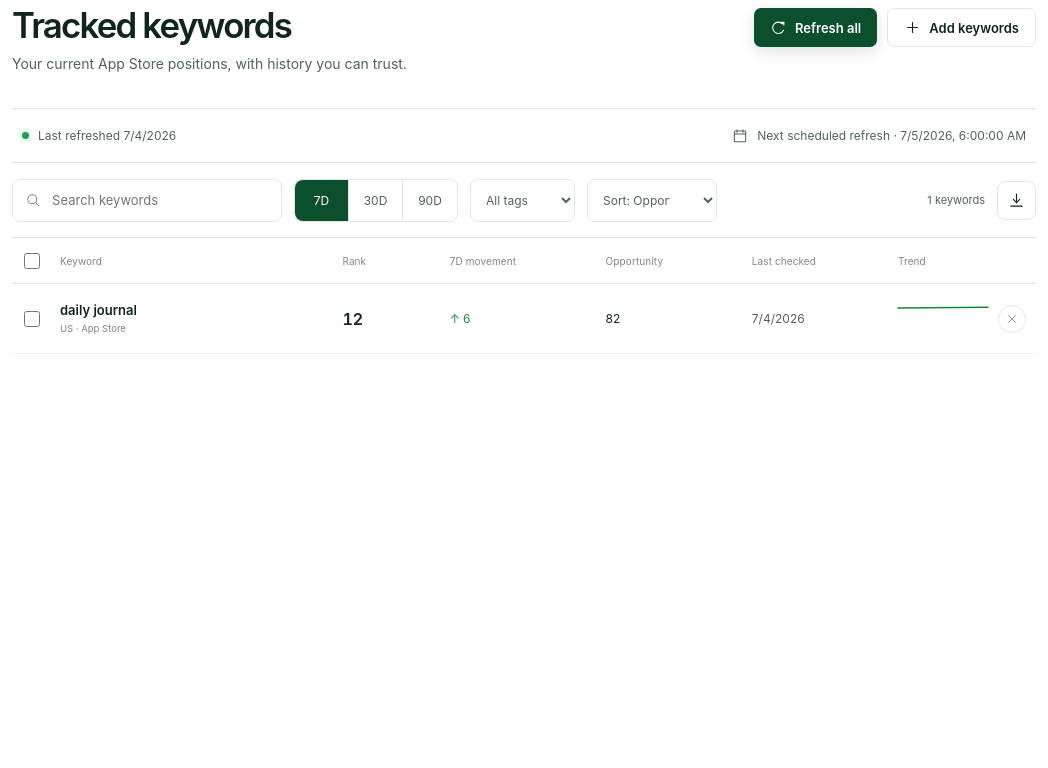
Test: opens a focused keyword history drawer from the table
expect the heading "Tracked keywords" is shown: met, box [12,4,291,46]
Click the button named "Open daily journal rank history": (943, 318) [898,302,988,334]
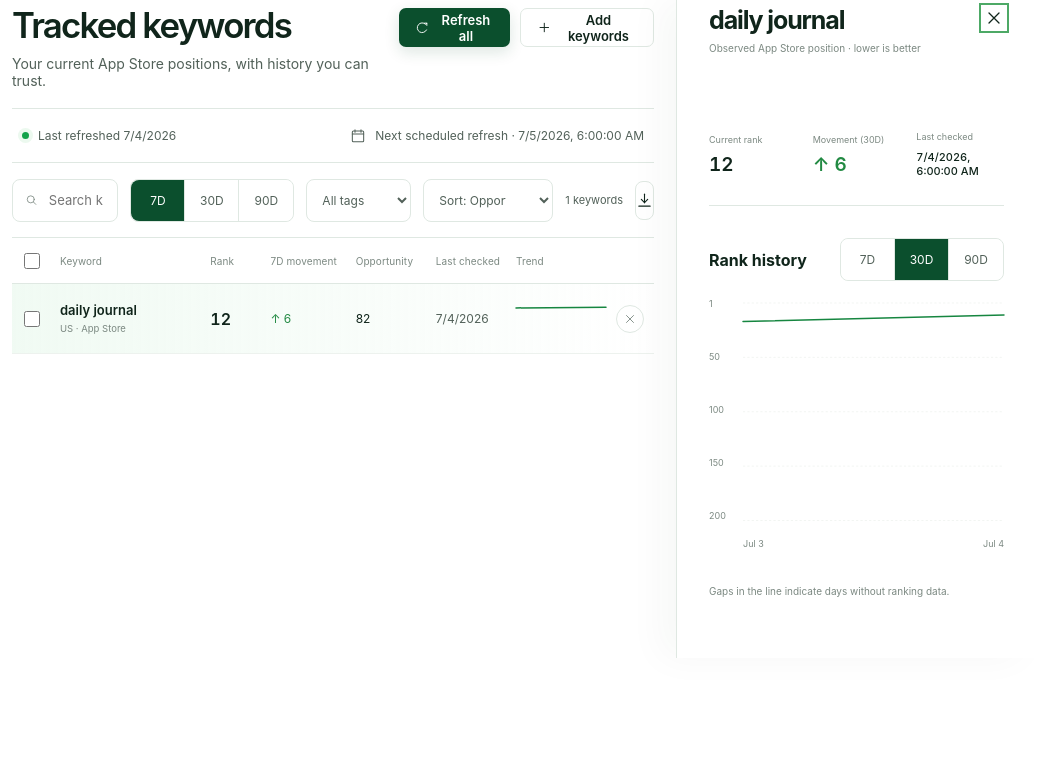
expect the heading "daily journal" is shown: met, box [709,5,844,35]
expect the picture named "daily journal 30D rank history" is shown: met, box [743,303,1004,520]
